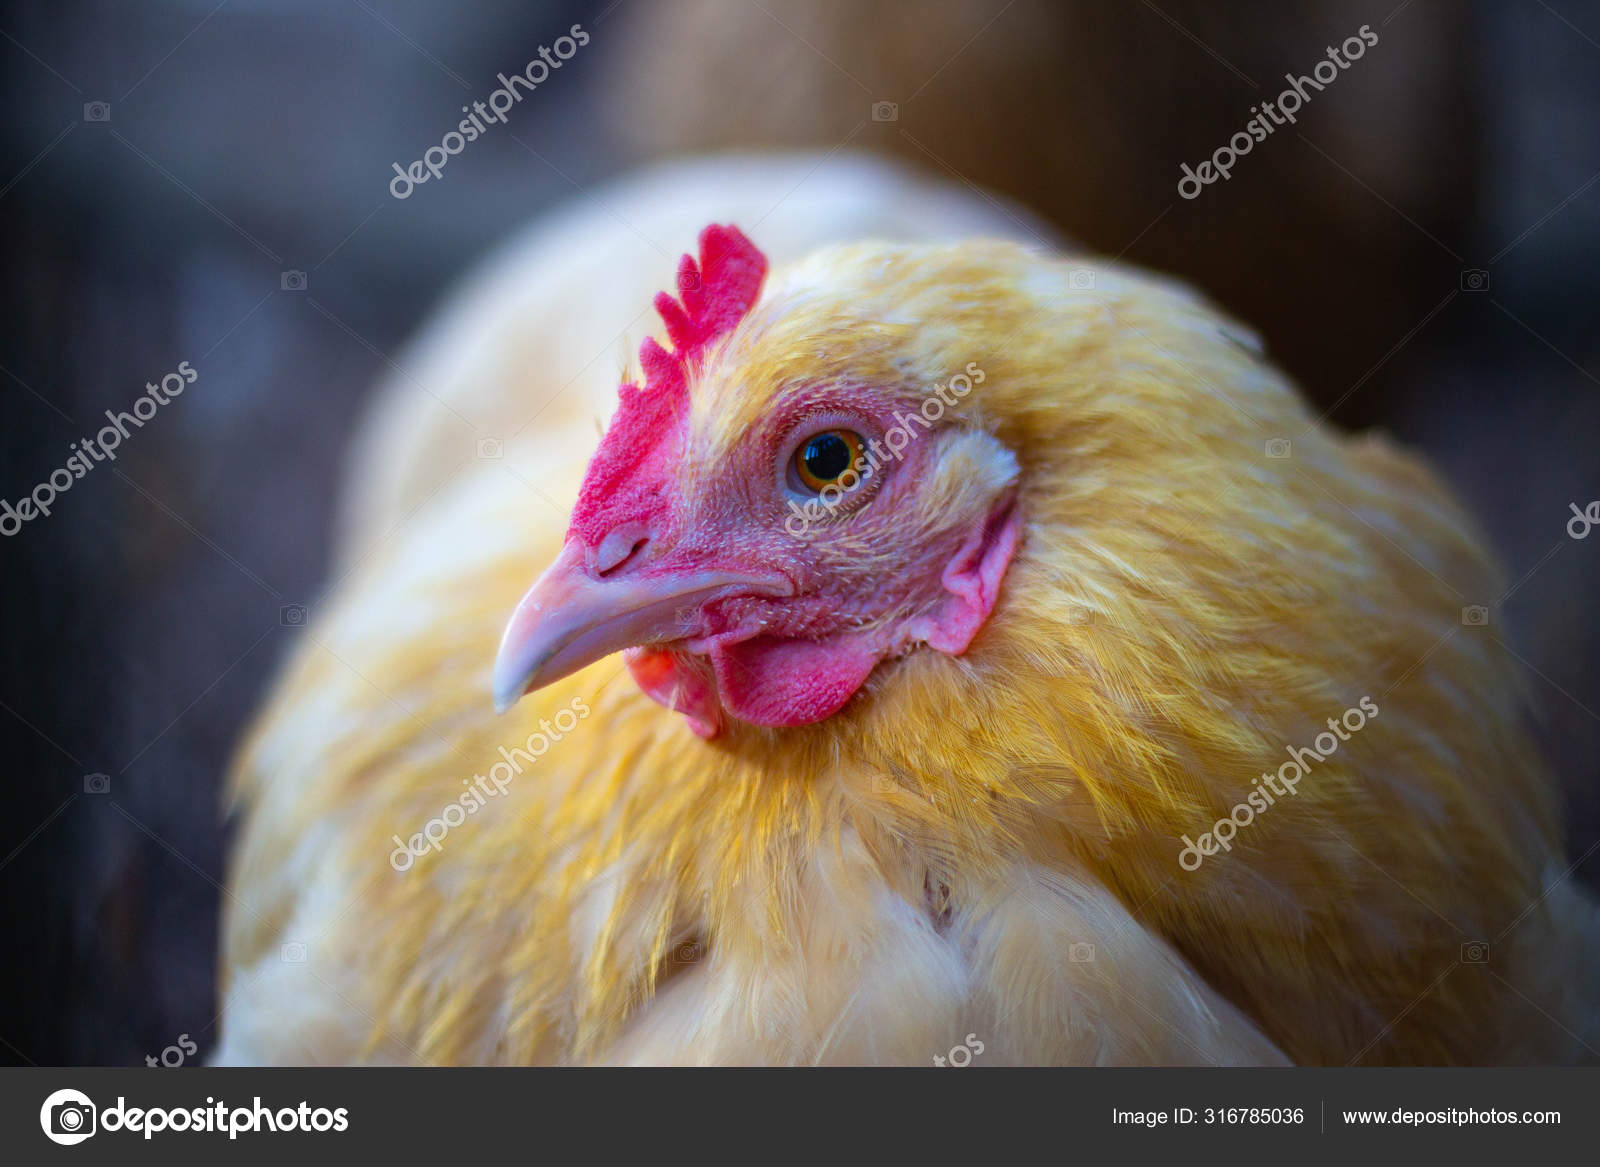buff: (462, 232, 1306, 905)
